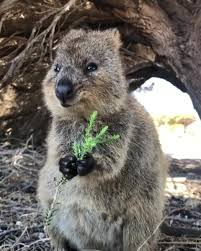quokka: (26, 18, 167, 251)
